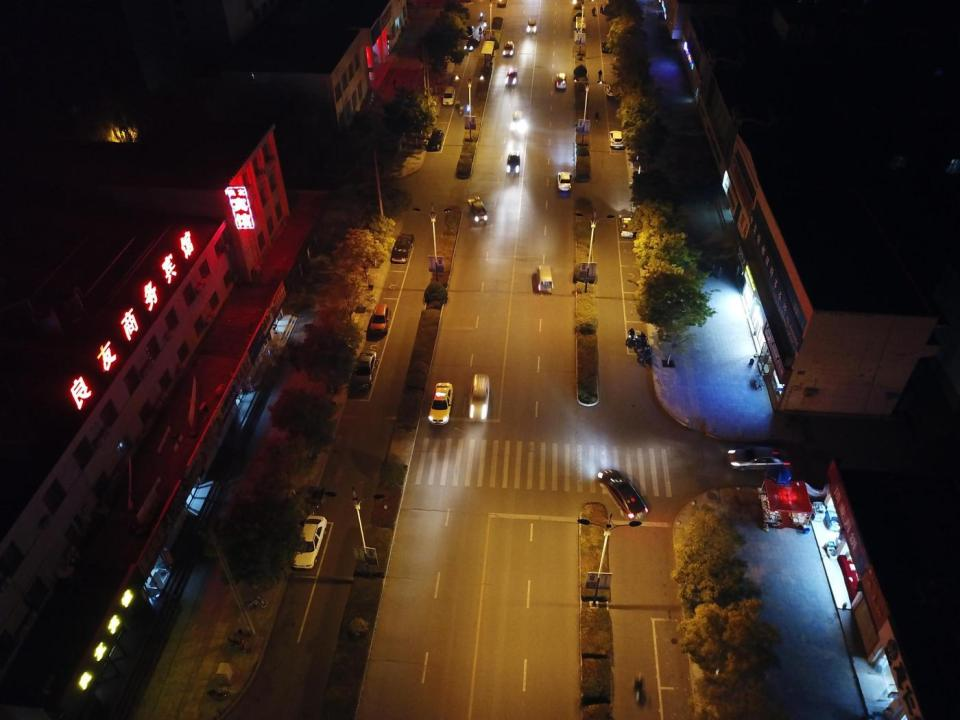car: (599, 469, 648, 519), (293, 516, 327, 568), (726, 446, 790, 470), (276, 482, 325, 509), (351, 350, 377, 391), (428, 382, 452, 423), (469, 372, 489, 418), (369, 303, 391, 339), (391, 233, 414, 263), (468, 195, 489, 221), (426, 129, 445, 151), (619, 214, 634, 237), (609, 130, 625, 150), (558, 170, 571, 192), (507, 152, 520, 174), (504, 66, 518, 84), (464, 37, 480, 51), (605, 83, 620, 97), (502, 41, 514, 56), (601, 41, 614, 54), (556, 74, 567, 88)
van: (537, 265, 553, 294), (511, 110, 525, 132), (442, 85, 454, 106), (527, 18, 536, 31)
